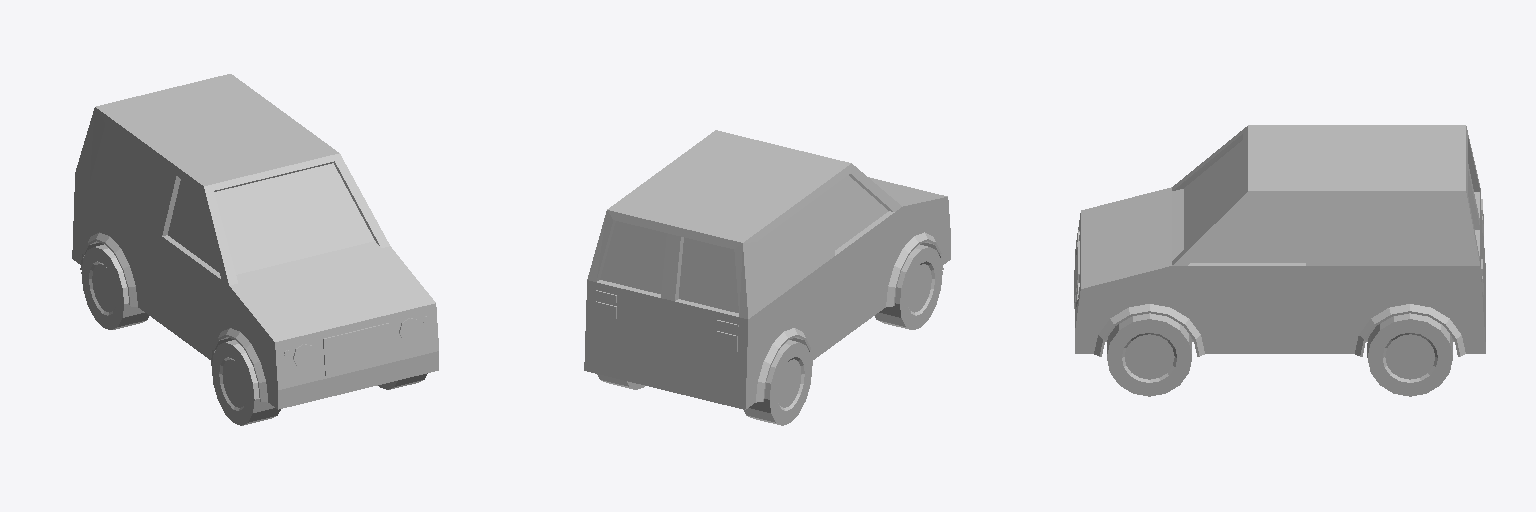
File: car-microcargo-citrus.obj
3 renders of one model, left to right at view 1: azimuth 30°, elevation 25°; view 2: azimuth 150°, elevation 25°; view 3: azimuth 270°, elevation 25°, orthographic.
Parts seen in each view (by area): view 1: car-microcargo-citrus_Cube.589; view 2: car-microcargo-citrus_Cube.589; view 3: car-microcargo-citrus_Cube.589.
Part boxes in pixels (left/top/right/bottom): car-microcargo-citrus_Cube.589: left=72, top=74, right=438, bottom=425; car-microcargo-citrus_Cube.589: left=584, top=130, right=950, bottom=425; car-microcargo-citrus_Cube.589: left=1074, top=125, right=1485, bottom=396.
Bounding box in the file's own units: 0.8967 × 0.9513 × 1.82.